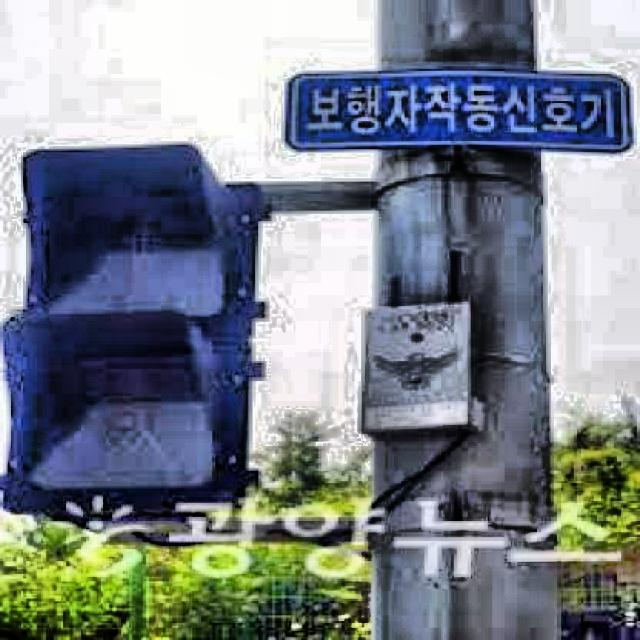semaforo pedestre: (0, 89, 289, 603)
